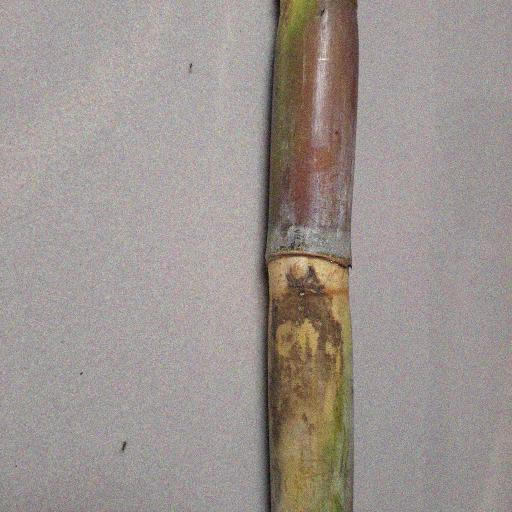Bud: (284, 260, 309, 286)
